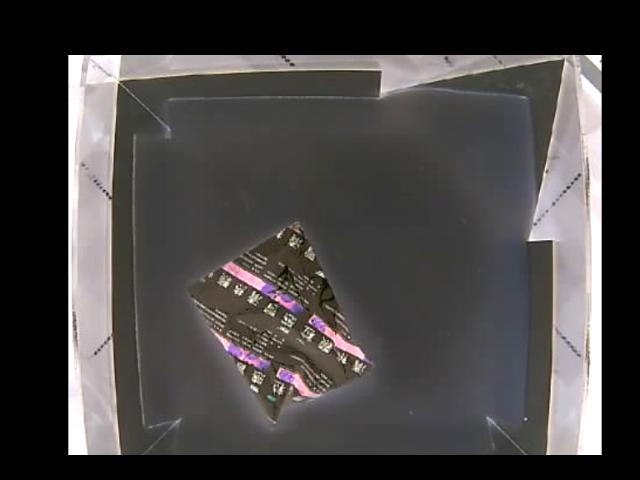Medicine: (186, 223, 369, 422)
